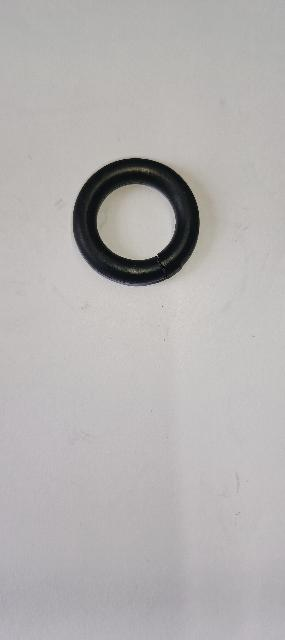4: (132, 260, 141, 278)
crack: (150, 251, 176, 282)
